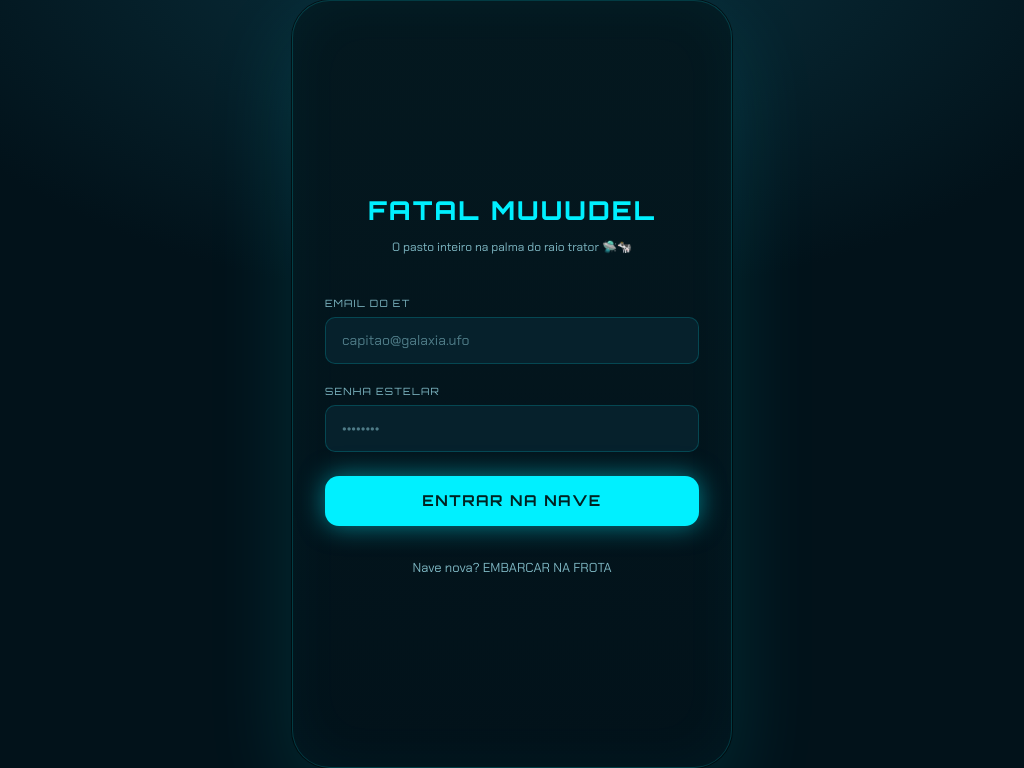
Test: LoginPage › exibe erro de validação para senha curta
Type "zork@ufo.com" into the field with placeholder "capitao@galaxia.ufo".
click(512, 340); type("zork@ufo.com")  # box [325,316,699,364]
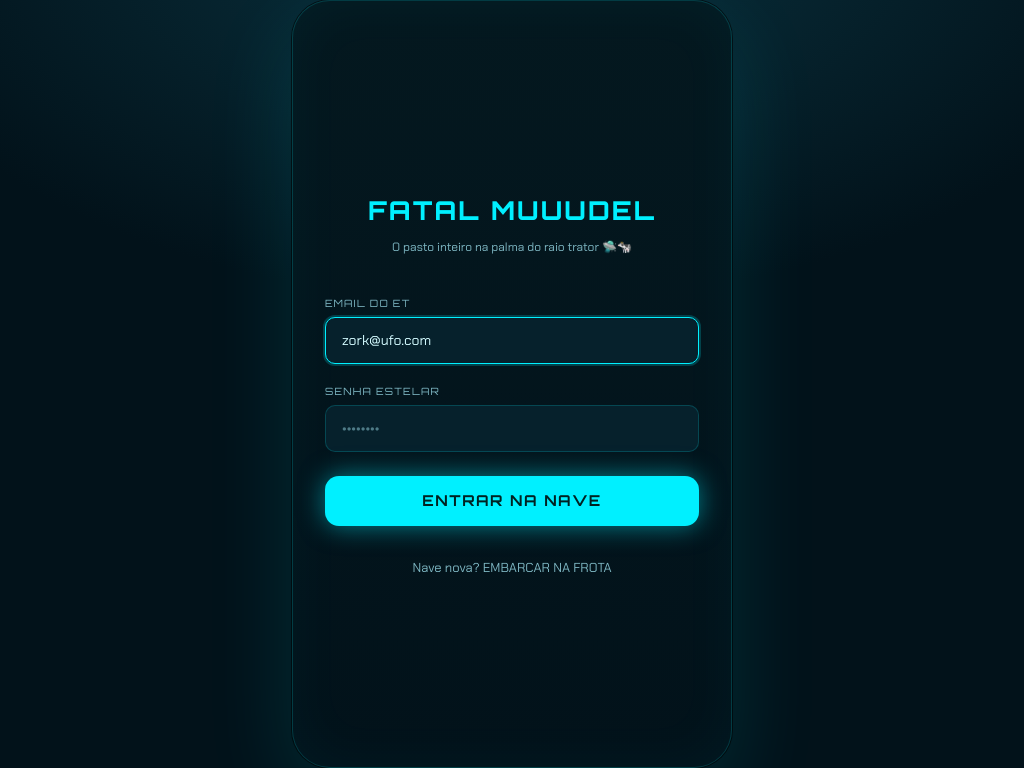
Type "123" into the password field with placeholder "••••••••".
click(512, 428); type("123")  # box [325,404,699,452]
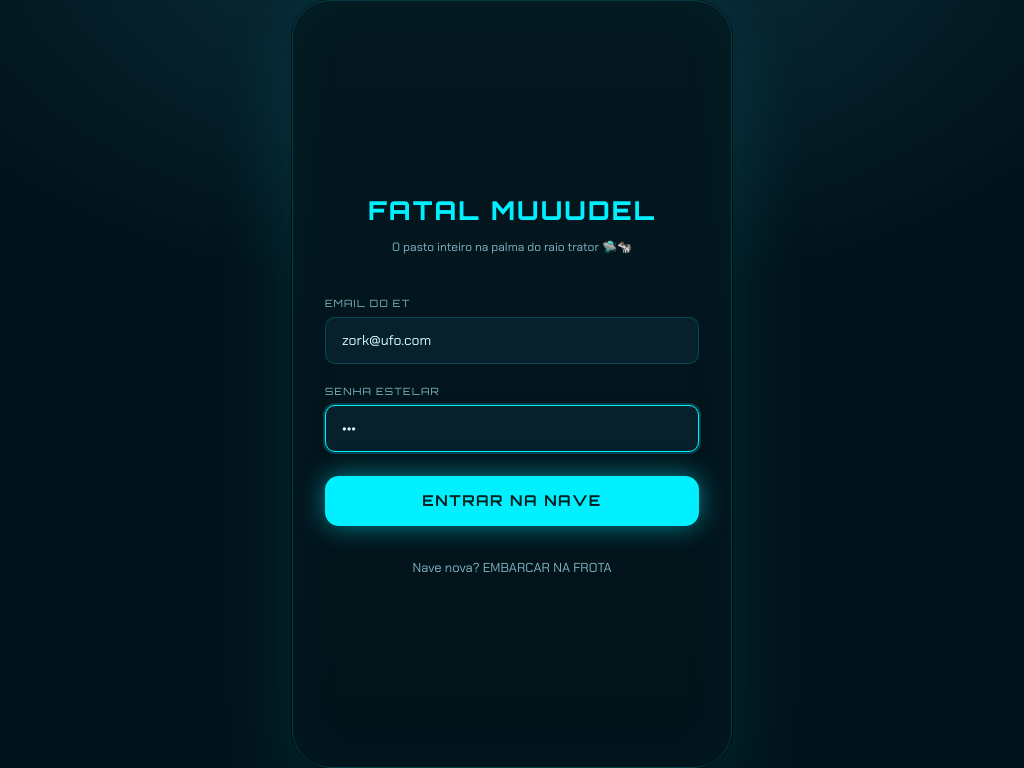
Click the button "ENTRAR NA NAVE".
click(512, 501)  # box [325,476,699,526]
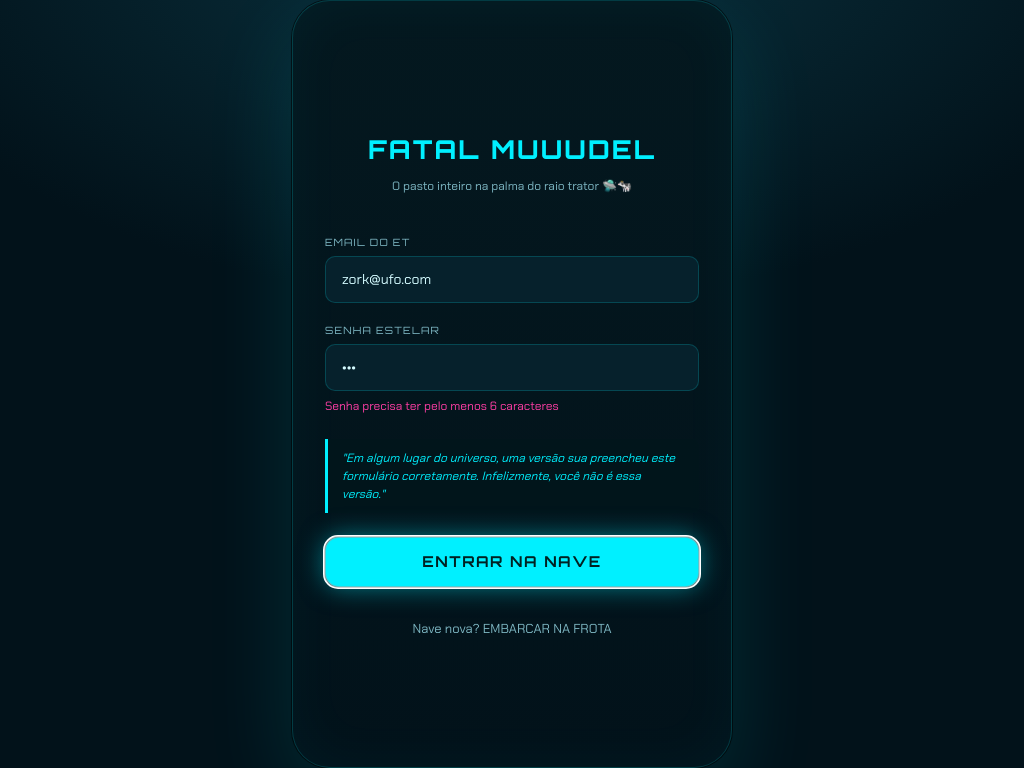
Result: the text "Senha precisa ter pelo menos 6 caracteres" is shown at [325,398,559,414]
